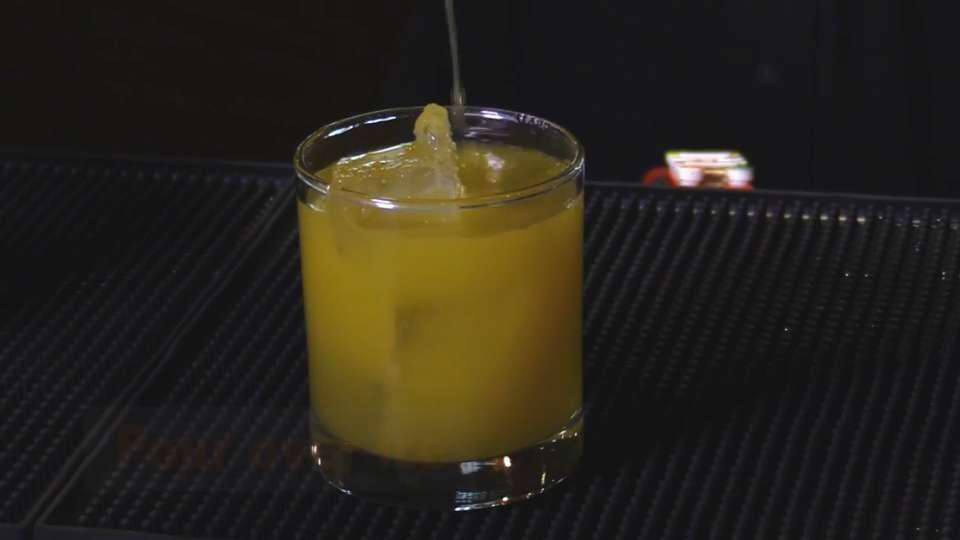glass-normal: (290, 100, 591, 510)
